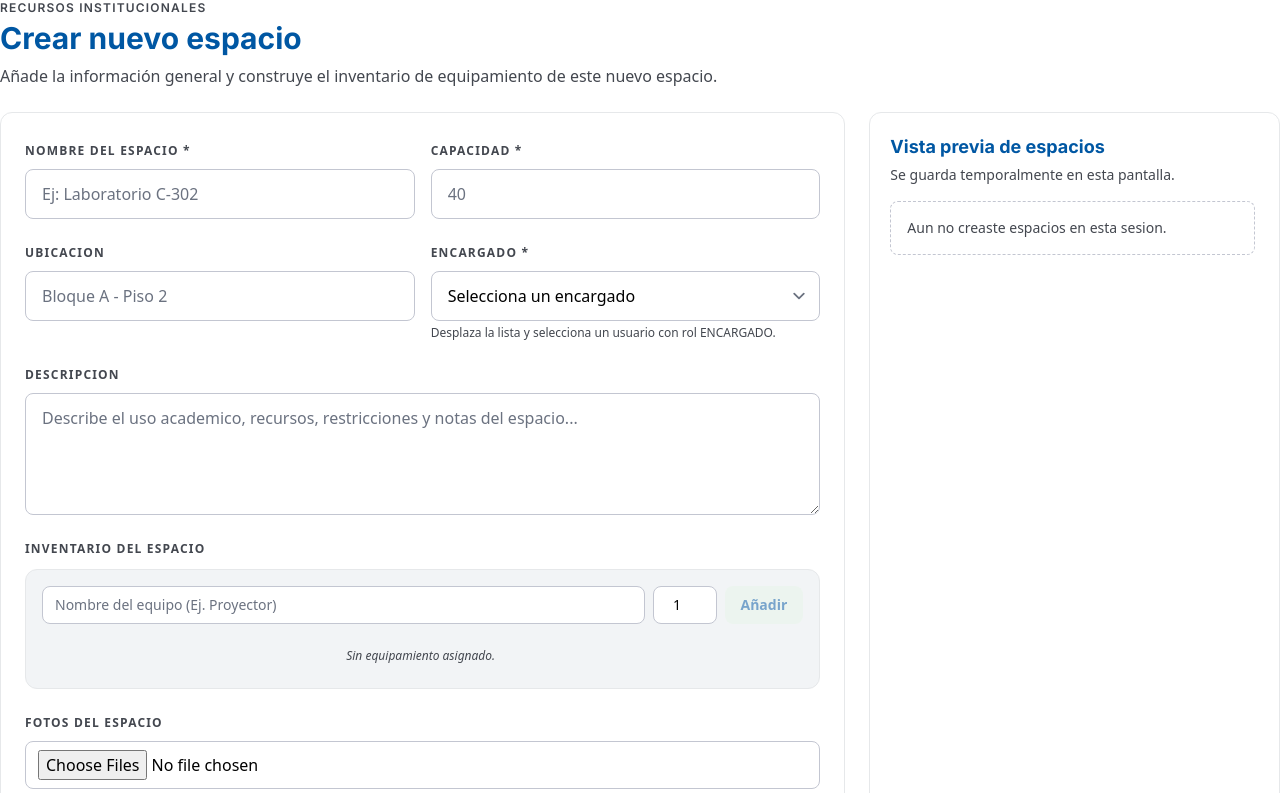
Scenario: AdminCreateSpaceView Component › debería guardar un nuevo espacio con equipamiento e imágenes con éxito
// Rellenar campos obligatorios
Type "Aula Magna" into the field with test id "create-space-name" at (220, 194), box [25, 169, 415, 219]
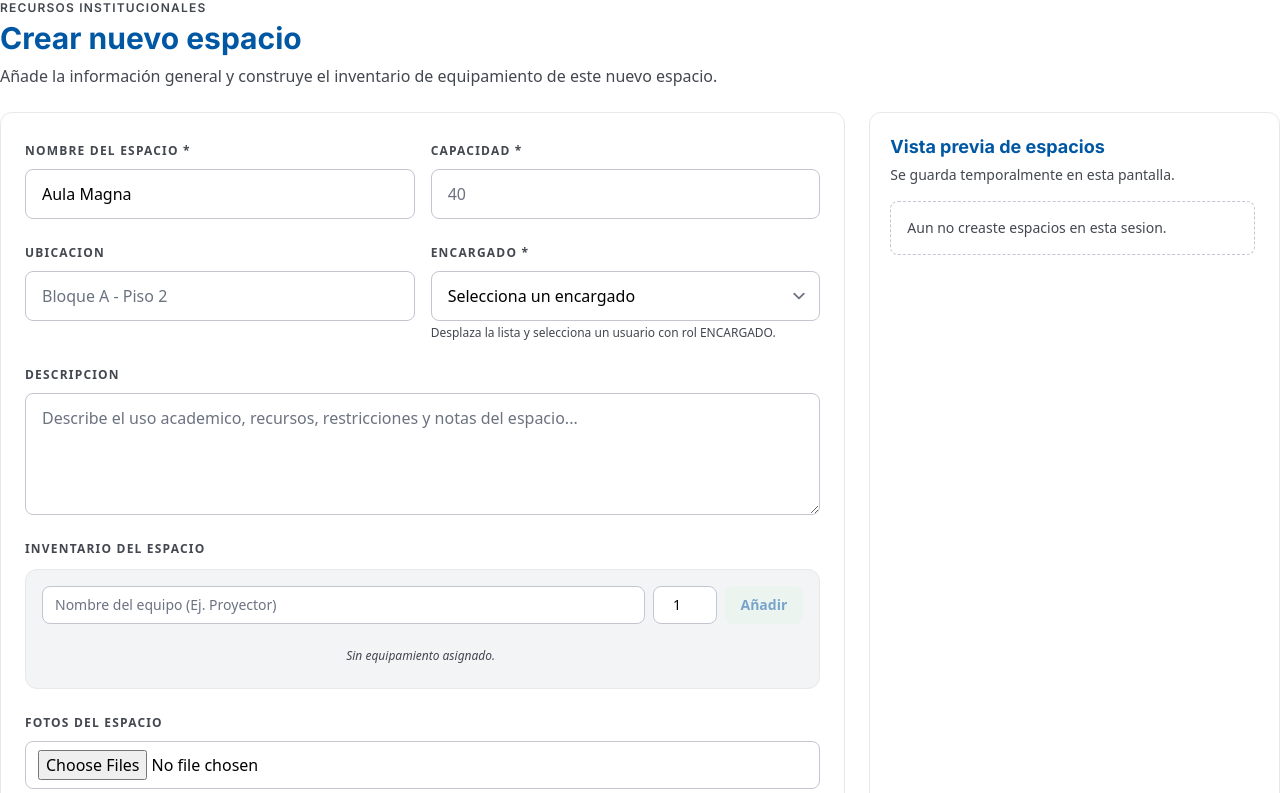
Type "100" into the number field with test id "create-space-capacity" at (626, 194), box [431, 169, 820, 219]
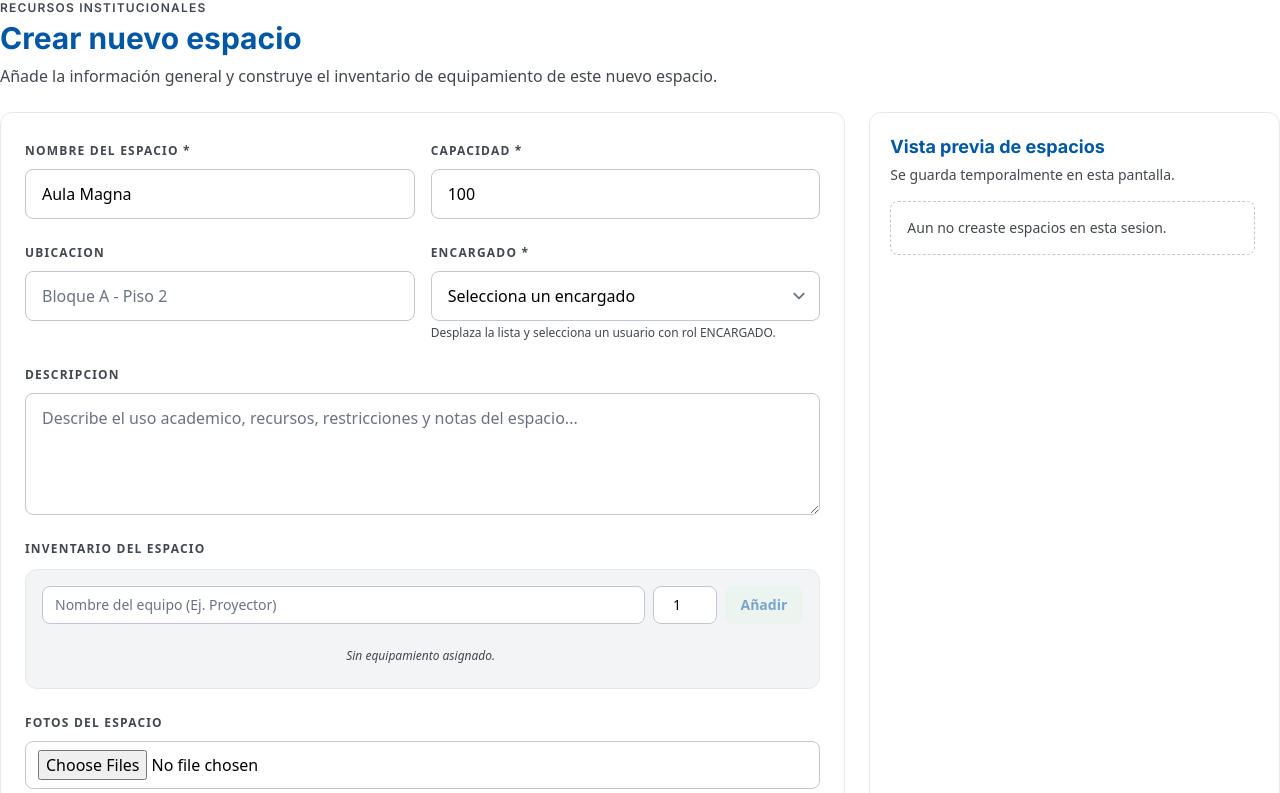
Select "Encargado Carlos" in the dropdown with test id "create-space-userInCharge" at (626, 296), box [431, 271, 820, 321]
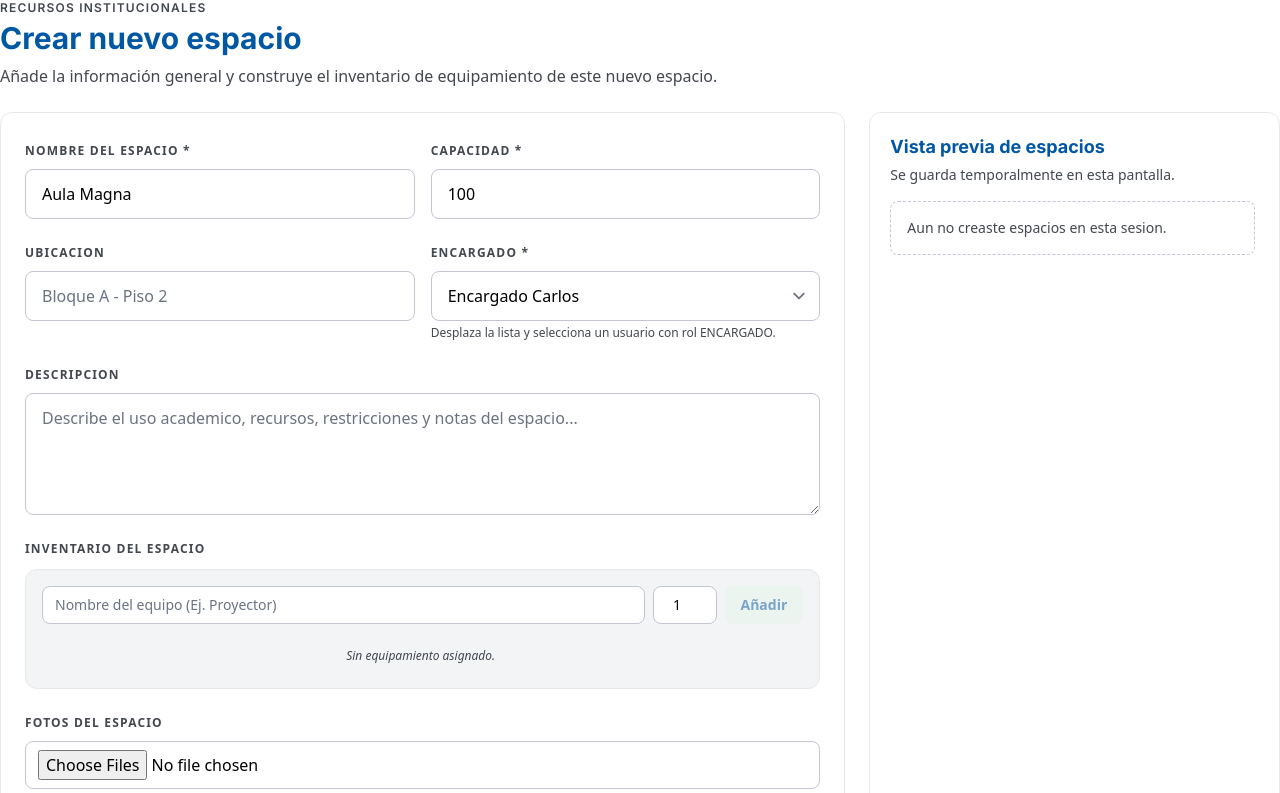
// Agregar un equipamiento
Type "Pantalla" into the field with placeholder "Nombre del equipo (Ej. Proyector)" at (343, 605), box [42, 586, 644, 624]
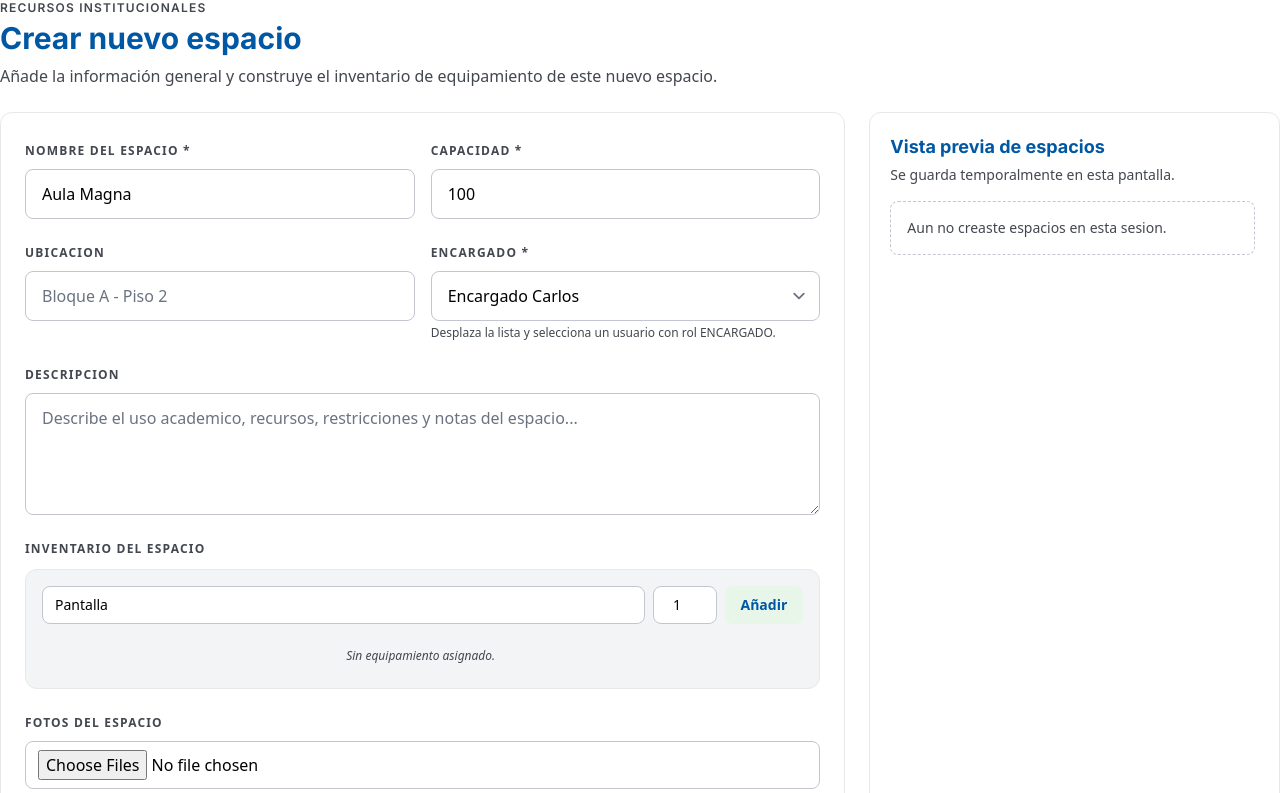
Click the button "Añadir" at (764, 605), box [724, 586, 803, 624]
(page scrolled)
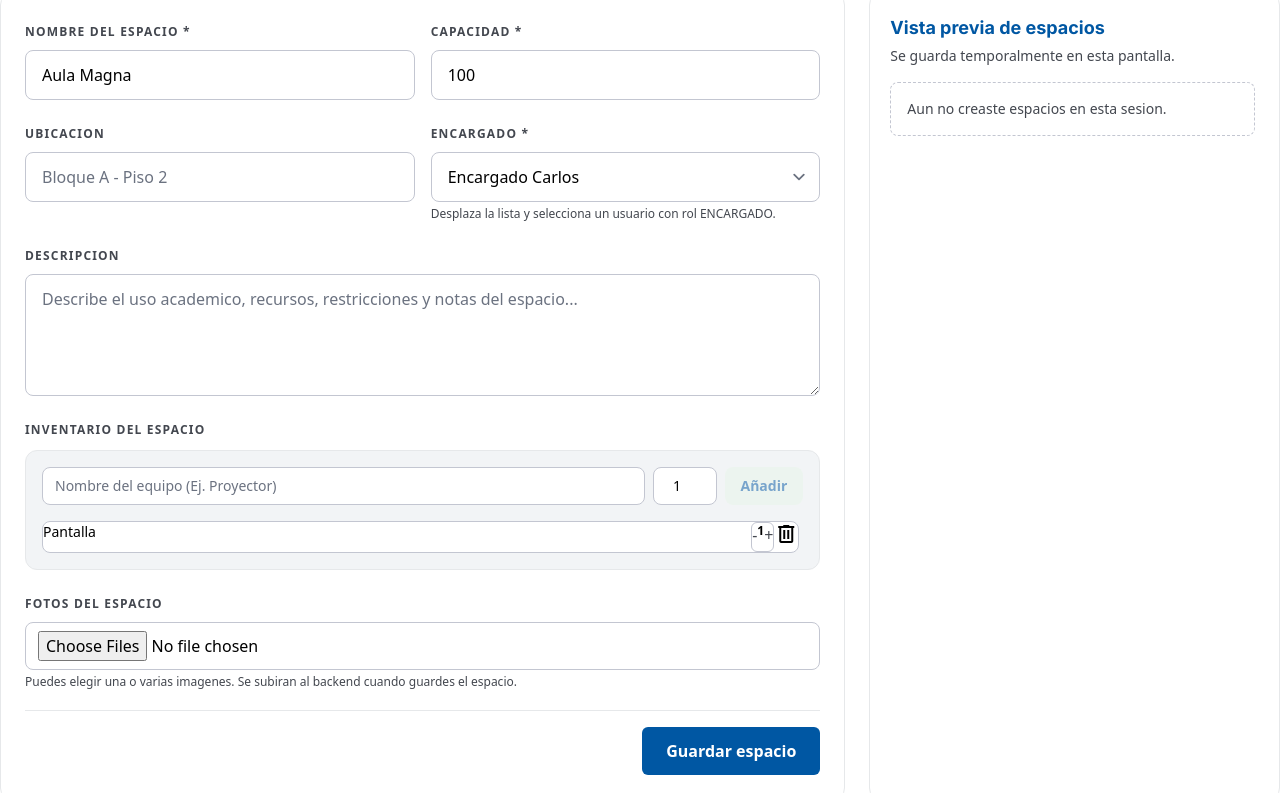
Click the button with test id "create-space-submit-button" at (731, 751), box [642, 727, 820, 775]
(page scrolled)
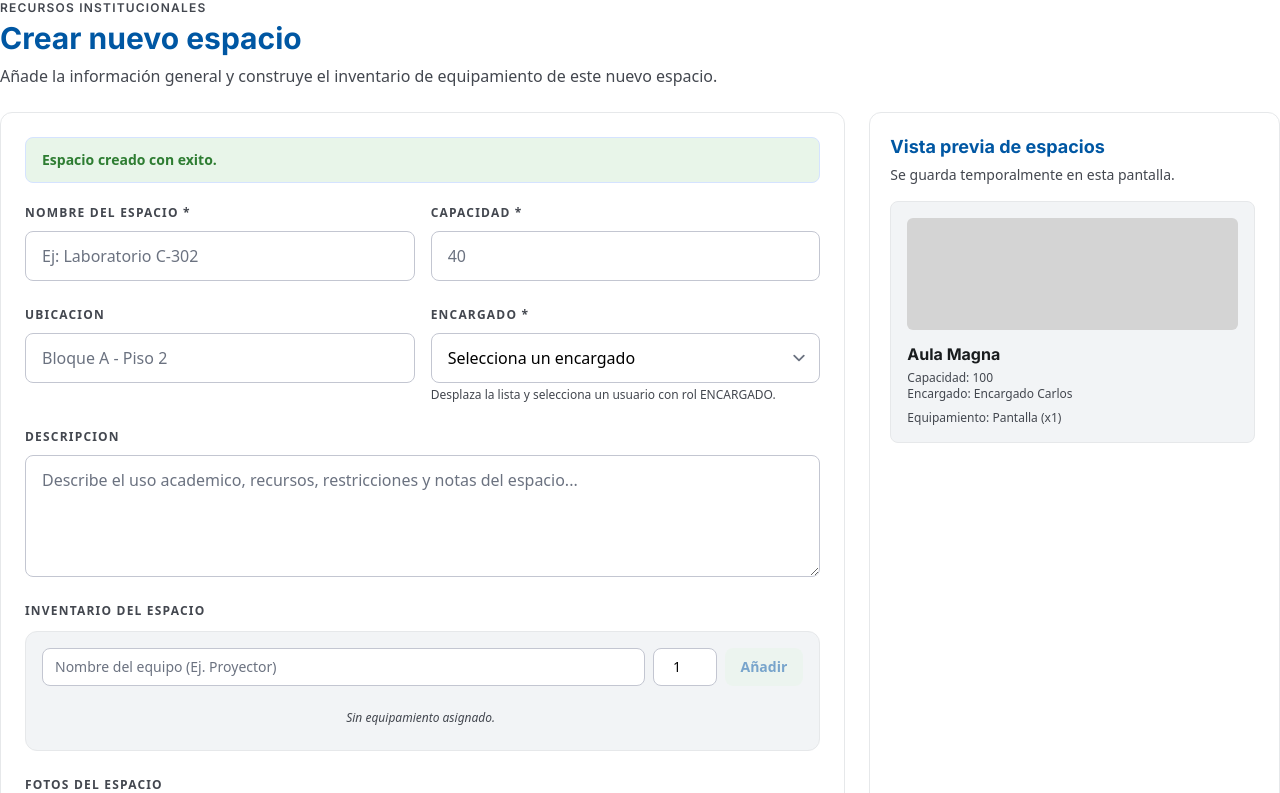
Expected: the text "Espacio creado con exito." is shown, [25, 137, 820, 183]
